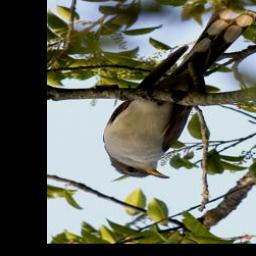Cuckoo: (102, 9, 255, 180)
